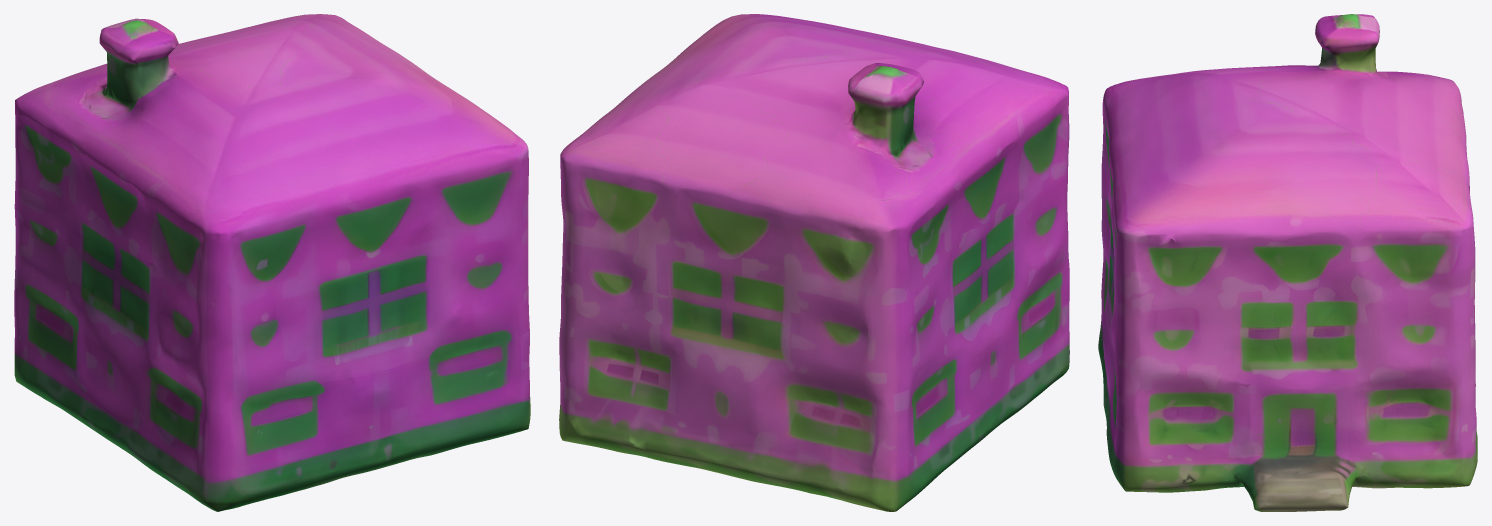
Rendered from A_pink_building.fbx.
3 views of the same model, side by side, from view 1: azimuth 30°, elevation 25°; view 2: azimuth 150°, elevation 25°; view 3: azimuth 270°, elevation 25° (orthographic). The views are drawn at different scales.
Parts seen in each view (by area): view 1: Mesh_0; view 2: Mesh_0; view 3: Mesh_0.
Boxes of the visible parts, box(x1,y1,x2,y2) form: Mesh_0: box(14, 14, 530, 511); Mesh_0: box(559, 14, 1069, 511); Mesh_0: box(1098, 14, 1477, 511).
Bounding box in the file's own units: 120 × 117 × 107.
1 material, 1 textured.
